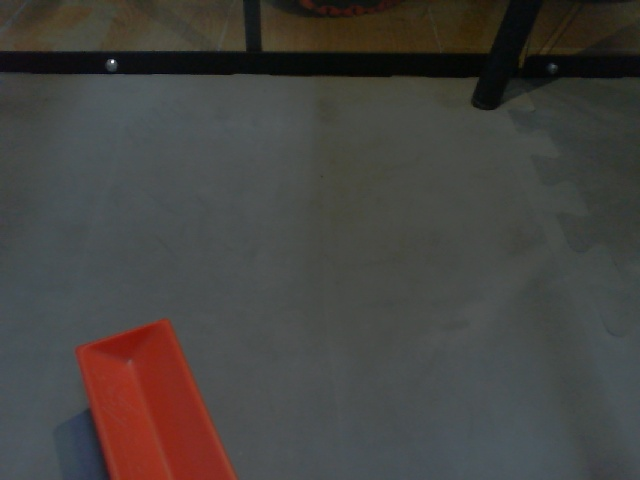RedSample: (73, 317, 238, 480)
